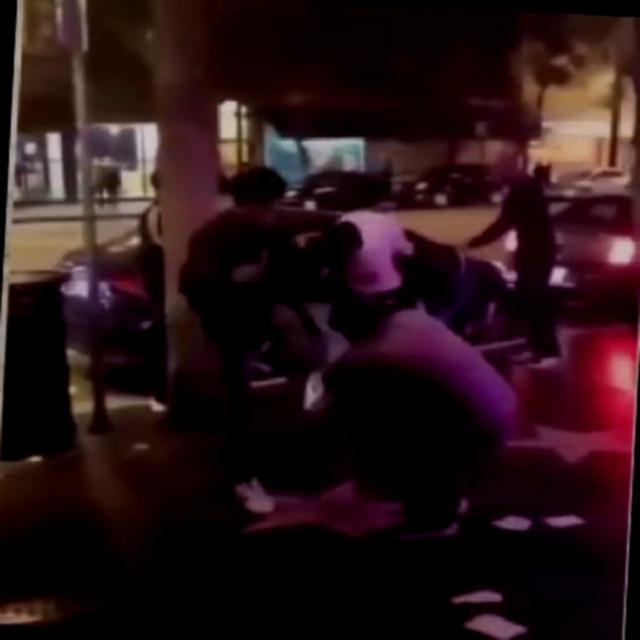fight: (175, 160, 420, 372)
non-fight: (472, 144, 578, 358)
